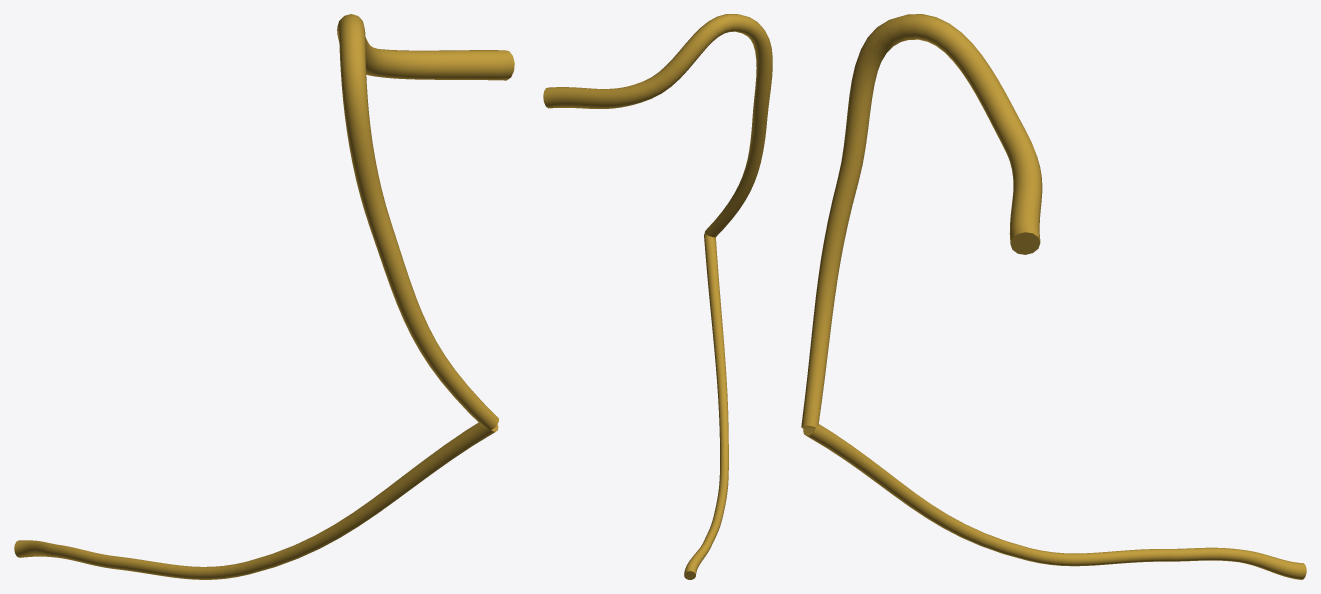
3 views of the same model, side by side, from view 1: azimuth 30°, elevation 25°; view 2: azimuth 150°, elevation 25°; view 3: azimuth 270°, elevation 25° (orthographic). The views are drawn at different scales.
Visible parts, largest first — view 1: 右侧三叉神经; view 2: 右侧三叉神经; view 3: 右侧三叉神经.
Part boxes in pixels (x1=…): 右侧三叉神经: x1=14, y1=14, x2=514, y2=579; 右侧三叉神经: x1=543, y1=14, x2=772, y2=579; 右侧三叉神经: x1=801, y1=14, x2=1306, y2=579.
Size of the model in its own units: 0.0276 by 0.0476 by 0.0346.
